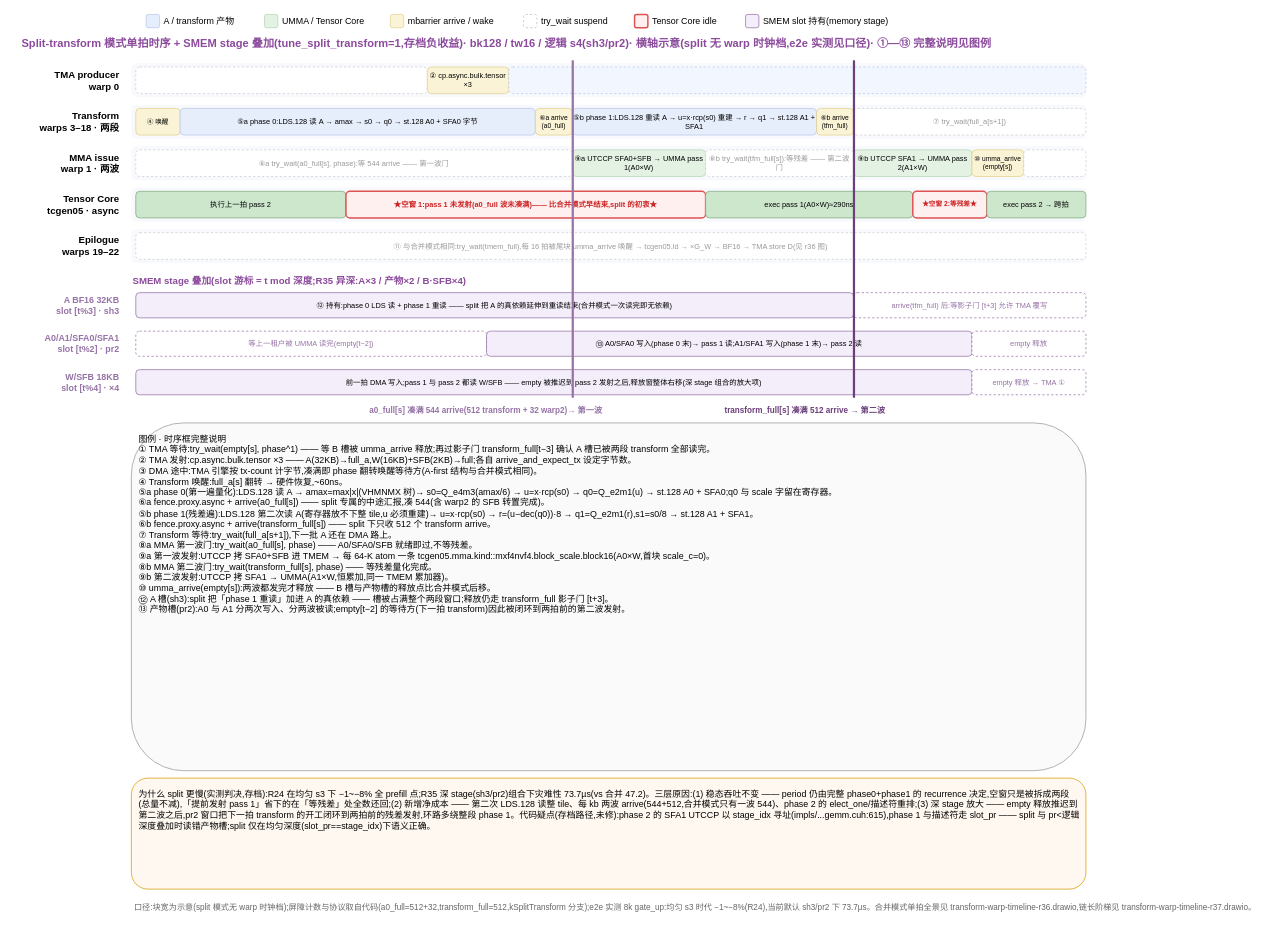
Some shapes in this 1268 by 950 pixel diagram are drawn without their labels. Here are the shapes that lost their labels. From the top down, the centre of each, then its label:
pixel 281 80: ① try_wait(empty[s]) + 影子门 transform_full[t−3]
pixel 797 80: ③ DMA:tx-count 计字节 → full_a[s] / full[s] phase 翻转
